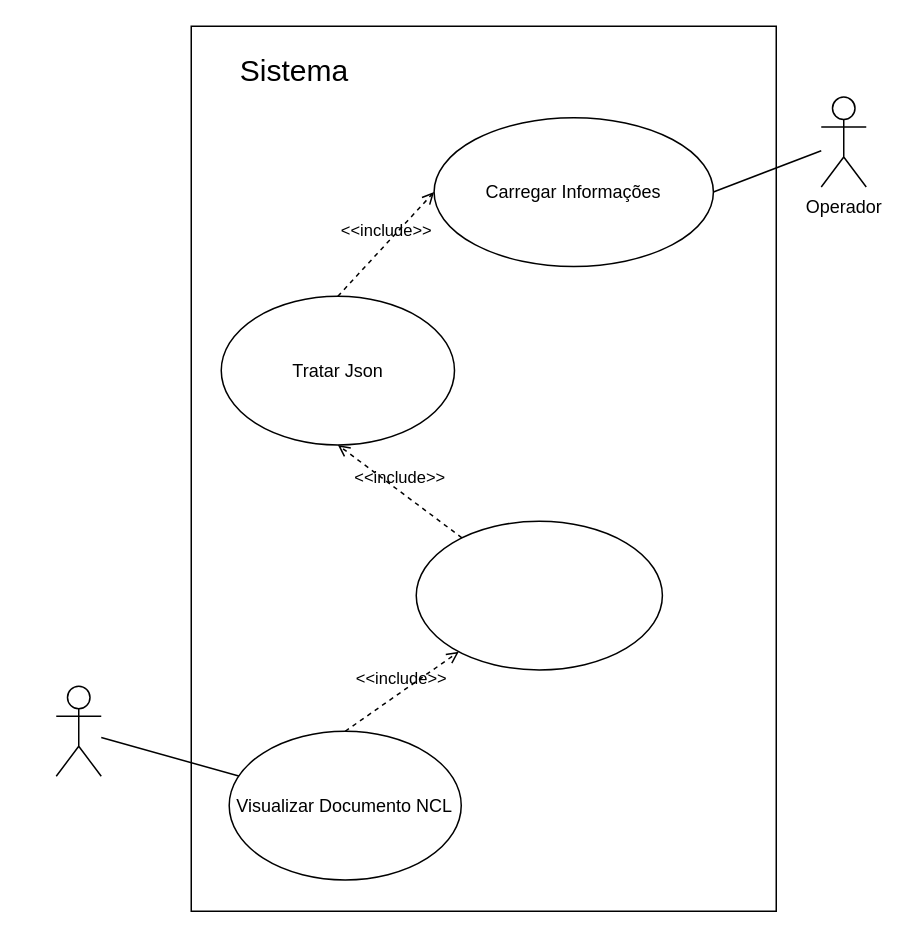
The diagram is 908 pixels wide and 938 high, and some of its shapes have lost their labels. The shapes that lost their labels are listed below. From the top down, each one's box as (x1, y1, x2, y2) in pixels, then its label:
(415, 520, 662, 670): Montar Documento NCL
(55, 685, 101, 776): Usuário Final
